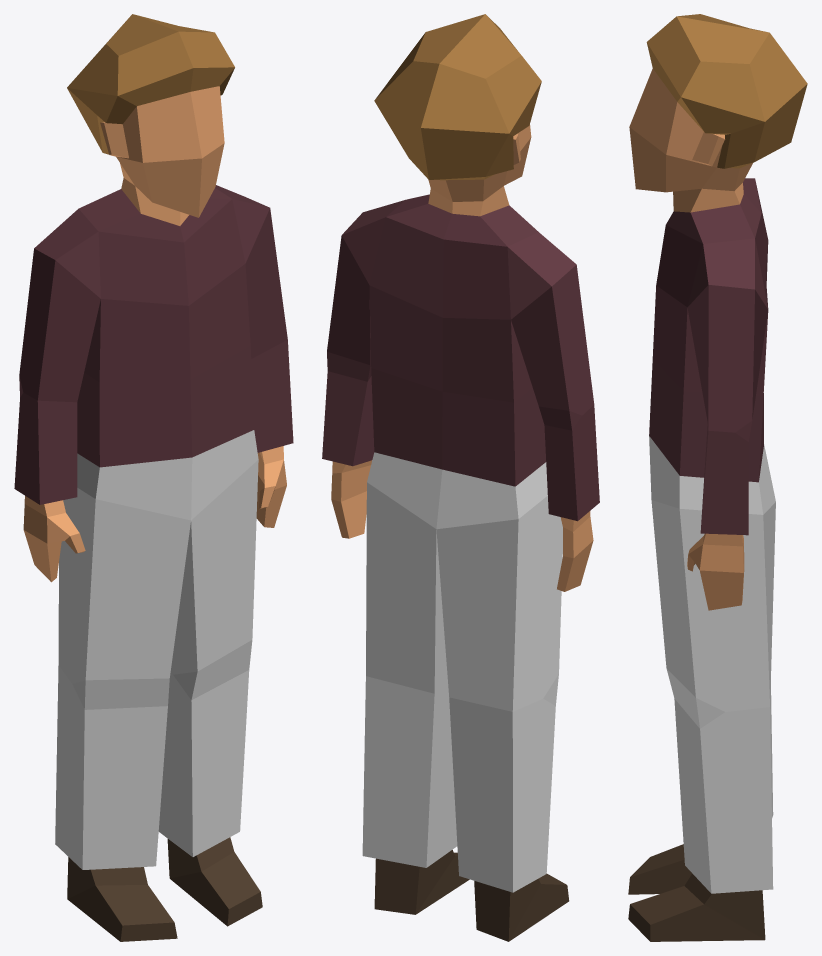
The model's file is boy-shirt.fbx.
The picture shows the model from 3 angles, left to right: view 1: azimuth 30°, elevation 25°; view 2: azimuth 150°, elevation 25°; view 3: azimuth 270°, elevation 25°; orthographic projection.
Visible parts, largest first — view 1: boy-shirt; view 2: boy-shirt; view 3: boy-shirt.
Boxes of the visible parts, x1,y1,x2,y2 form: boy-shirt: (14, 14, 293, 941); boy-shirt: (322, 14, 599, 941); boy-shirt: (628, 14, 807, 941).
Size of the model in its own units: 0.3373 by 1.11 by 0.2023.
